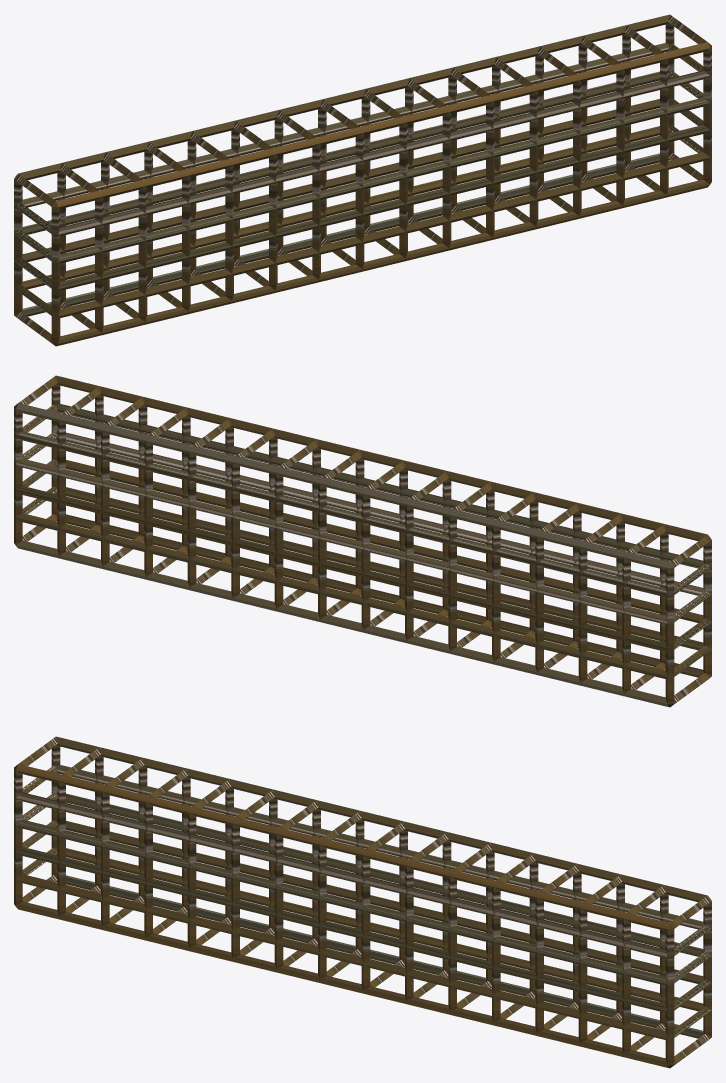
The model's file is Gate.fbx.
3 views of the same model, one above another, from view 1: azimuth 30°, elevation 25°; view 2: azimuth 150°, elevation 25°; view 3: azimuth 330°, elevation 25° (orthographic).
Visible parts, largest first — view 1: Gate; view 2: Gate; view 3: Gate.
Part boxes in pixels (x1=…): Gate: x1=14, y1=14, x2=711, y2=346; Gate: x1=14, y1=375, x2=711, y2=707; Gate: x1=14, y1=736, x2=711, y2=1068.
Size of the model in its own units: 59.84 by 12.6 by 6.69.
1 material, 1 textured.
